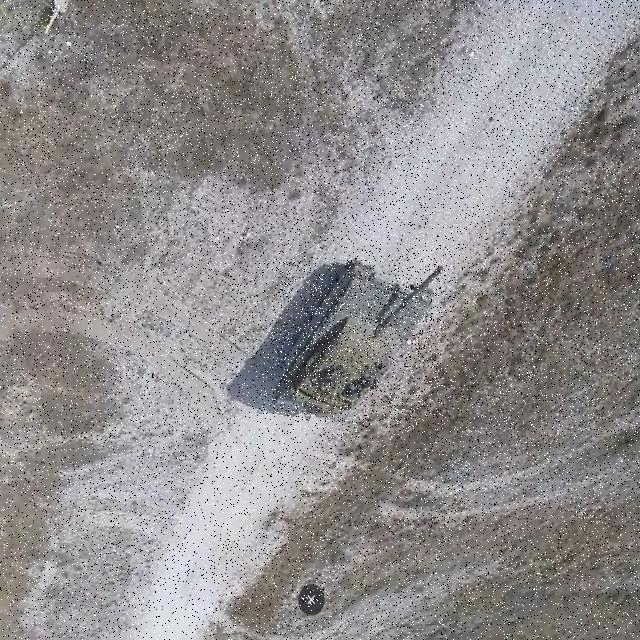MIL_MBT: (272, 258, 446, 422)
